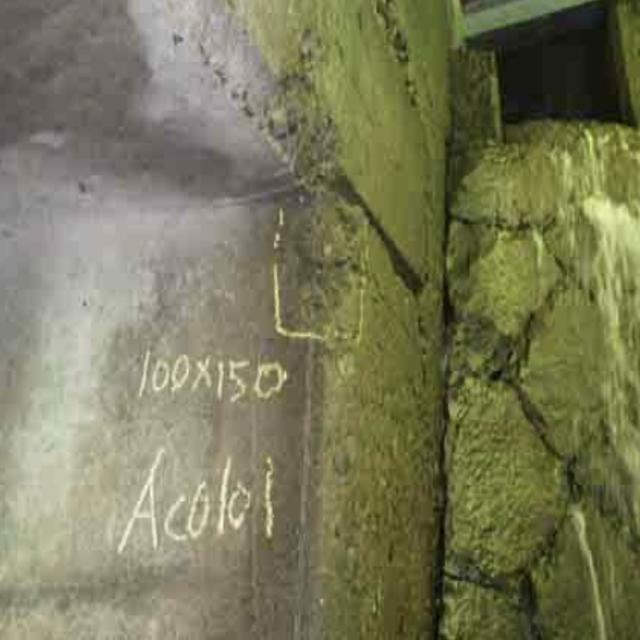spalling: (439, 186, 597, 631), (277, 146, 369, 353)
